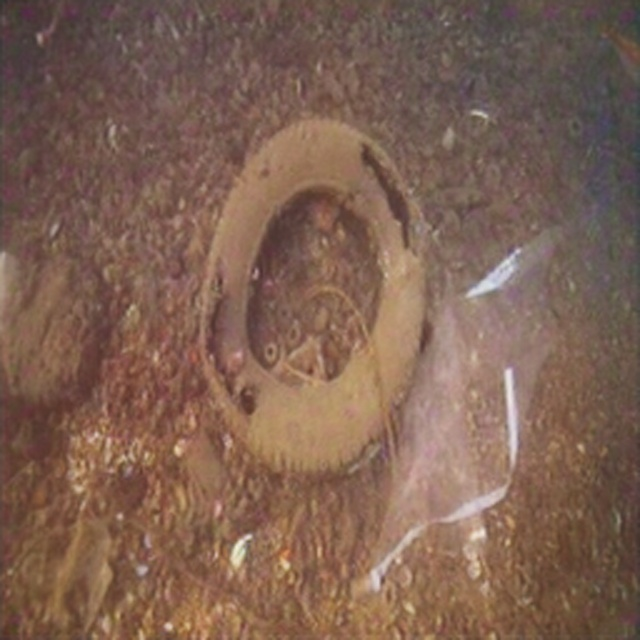mine: (194, 117, 429, 476)
